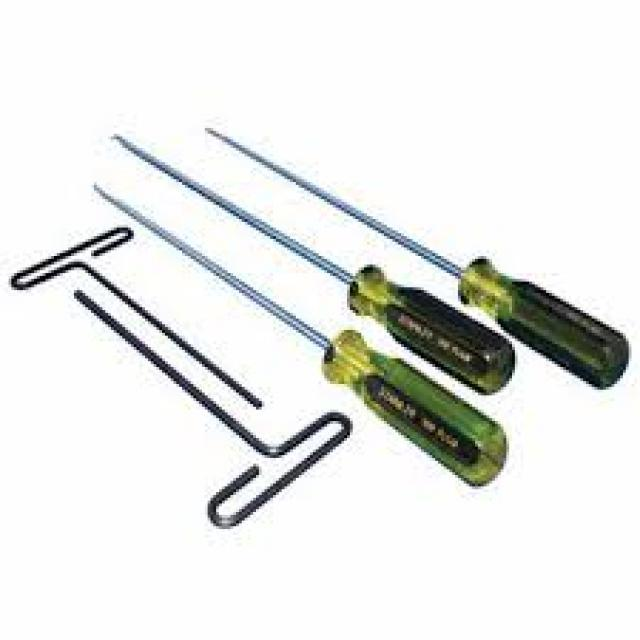screwdriver: (82, 172, 515, 488), (200, 122, 630, 396), (99, 121, 515, 400)
